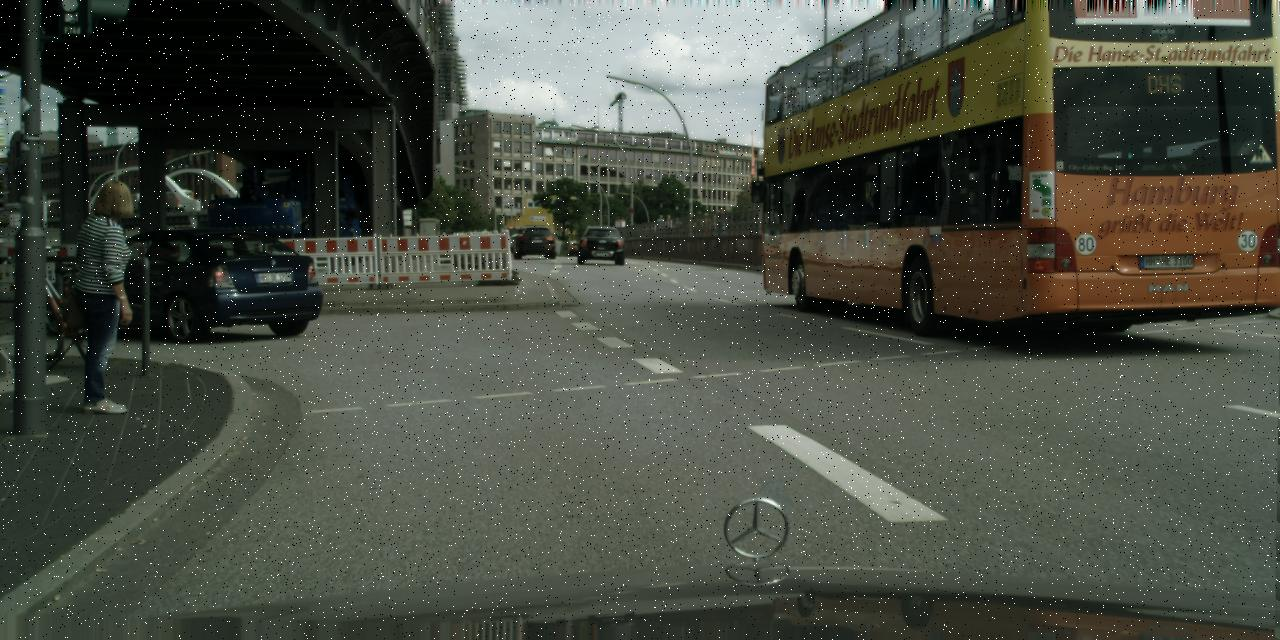ped: (58, 180, 154, 412), (716, 206, 728, 236), (701, 212, 710, 236), (655, 214, 664, 237), (664, 214, 672, 237), (672, 216, 680, 236)
